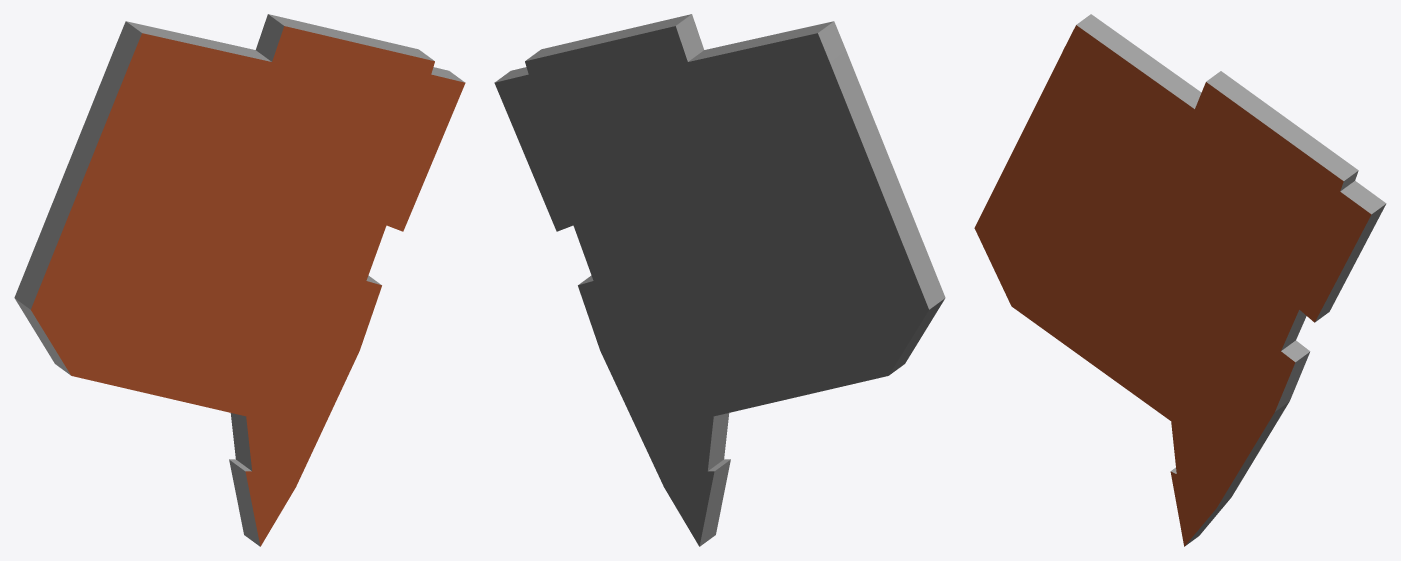
The model's file is construction_0107_assumed_A_Grande_construcao_h6m.obj.
3 views of the same model, side by side, from view 1: azimuth 30°, elevation 25°; view 2: azimuth 150°, elevation 25°; view 3: azimuth 330°, elevation 25° (orthographic). The views are drawn at different scales.
Parts seen in each view (by area): view 1: construction_0107_assumed_A_Grande_construcao; view 2: construction_0107_assumed_A_Grande_construcao; view 3: construction_0107_assumed_A_Grande_construcao.
Boxes of the visible parts, bbox=[...] form: construction_0107_assumed_A_Grande_construcao: bbox=[14, 14, 465, 546]; construction_0107_assumed_A_Grande_construcao: bbox=[494, 14, 945, 546]; construction_0107_assumed_A_Grande_construcao: bbox=[974, 14, 1386, 546].
Bounding box in the file's own units: 91.91 × 110 × 6.
